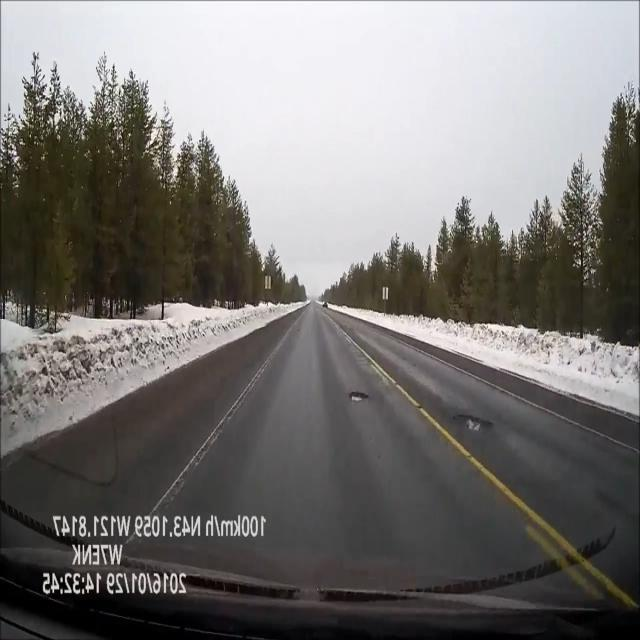pothole: (349, 378, 368, 411)
